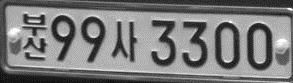0: (214, 20, 240, 70), (246, 21, 272, 70)
3: (150, 19, 176, 67), (182, 20, 208, 68)
9: (80, 15, 107, 63), (50, 13, 76, 61)
부산_V: (21, 13, 49, 61)
사: (111, 20, 137, 61)
